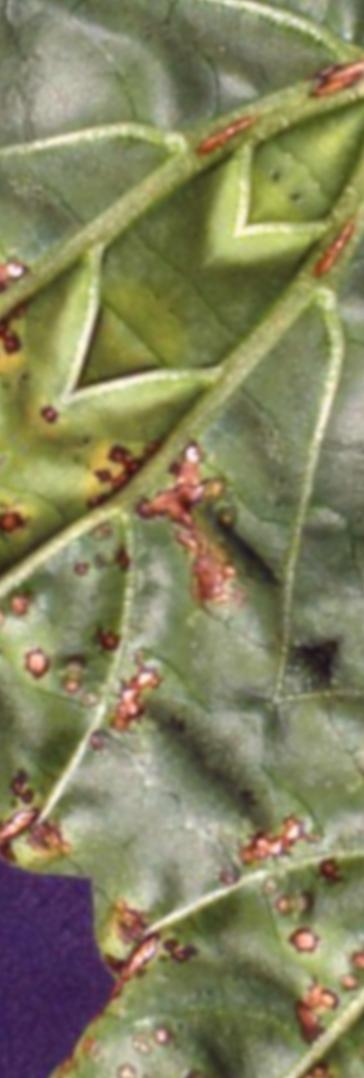Tomato Septoria leaf spot: (0, 34, 364, 1044)
